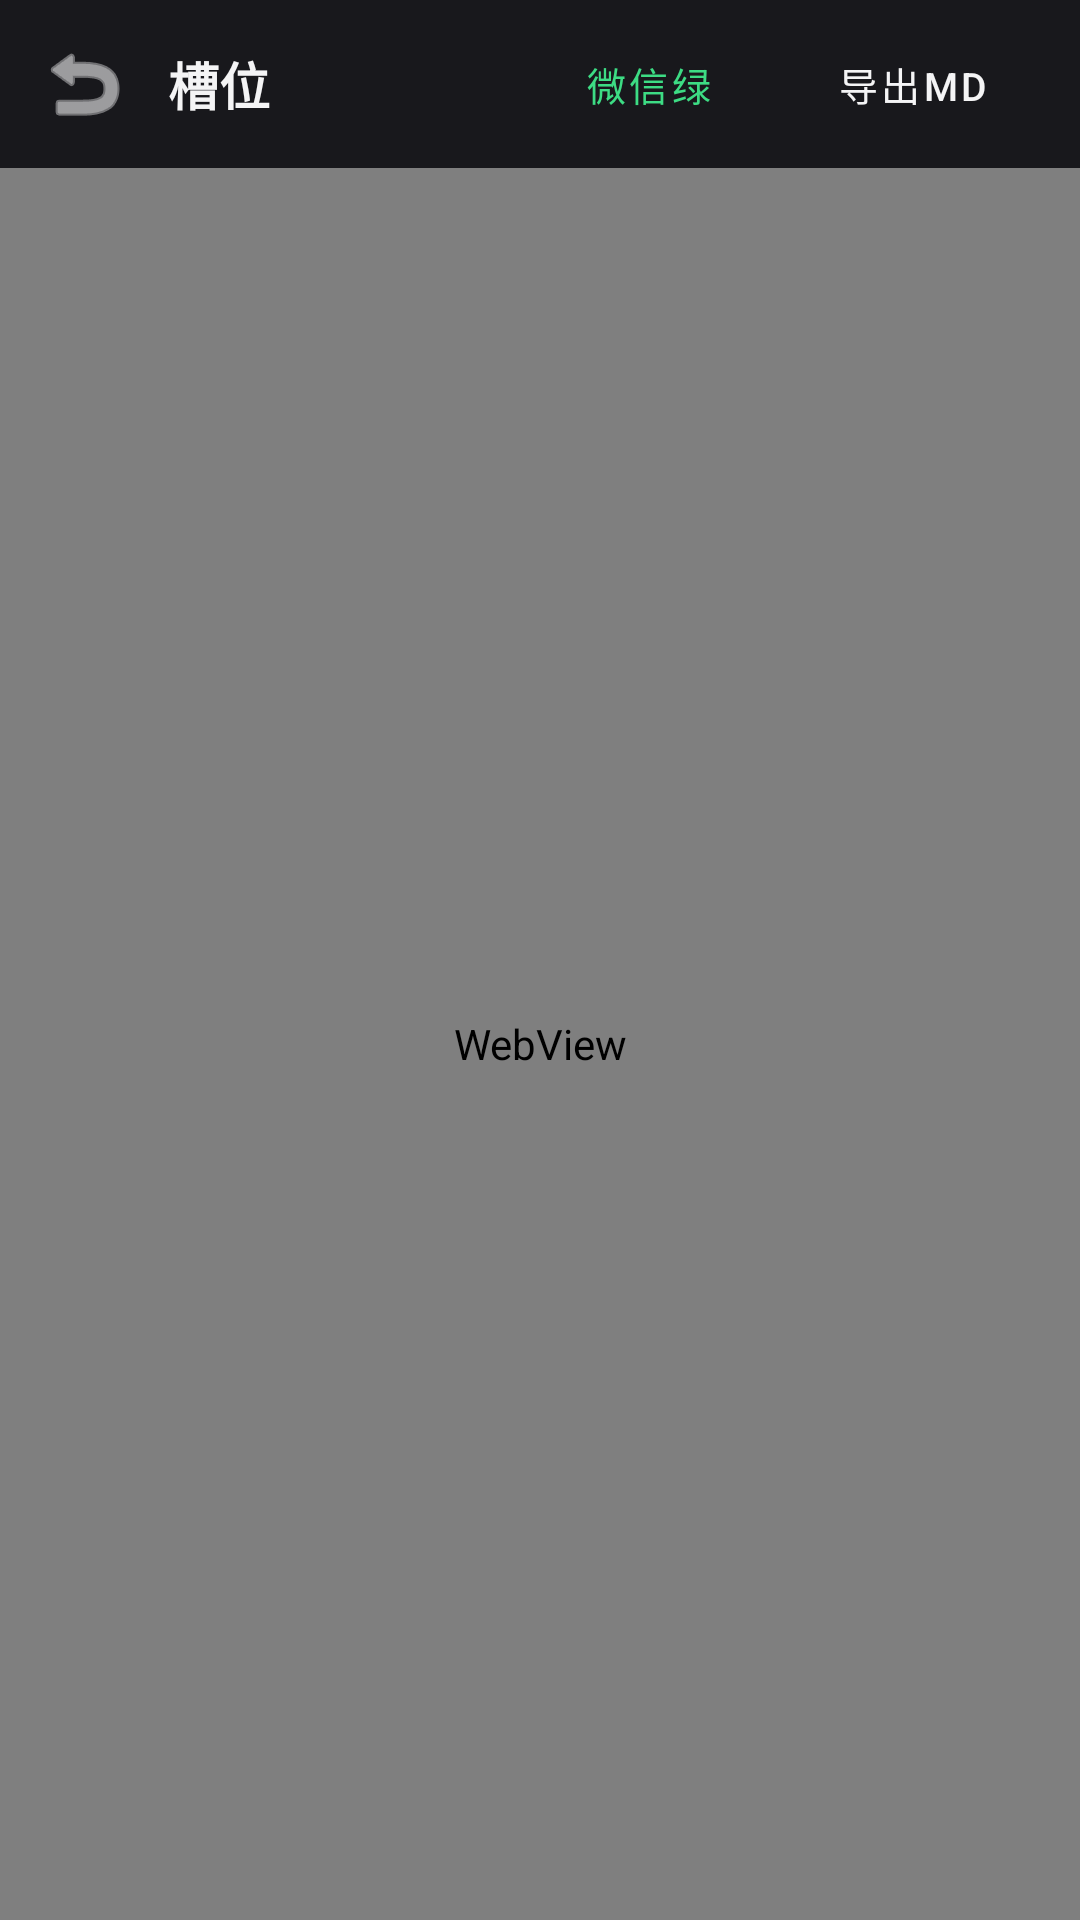

Named icons in this screenshot (1080px×1920px) and their centers, [x,y]:
返回: [85,84]
